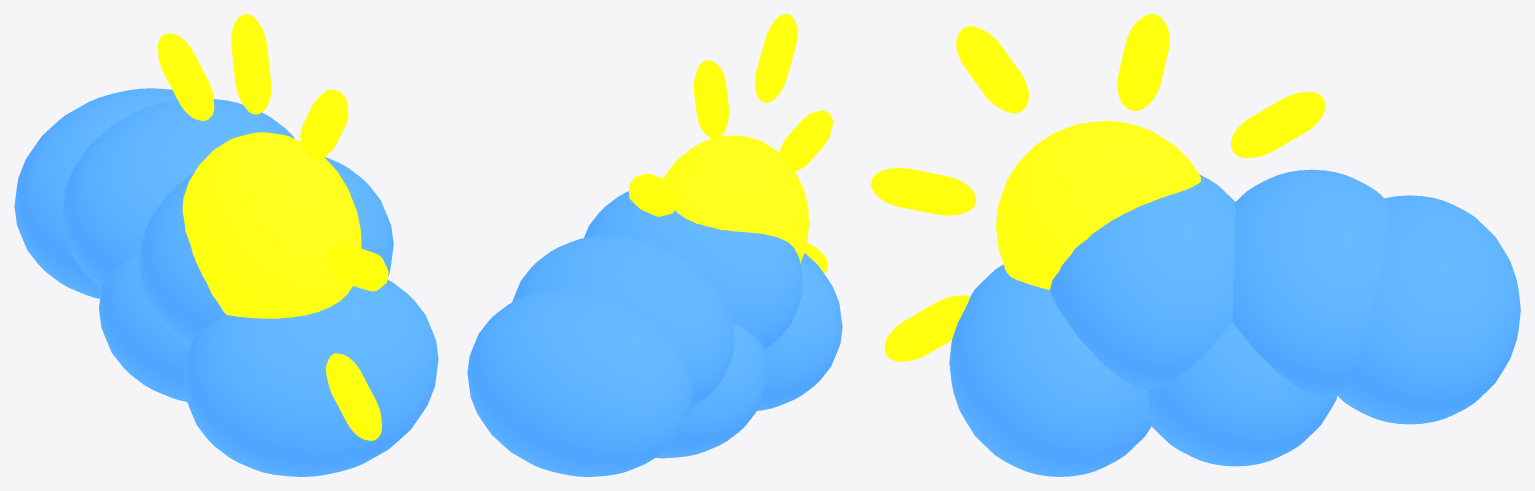
Rendered from clouds.glb.
3 views of the same model, side by side, from view 1: azimuth 30°, elevation 25°; view 2: azimuth 150°, elevation 25°; view 3: azimuth 270°, elevation 25° (orthographic). The views are drawn at different scales.
Visible parts, largest first — view 1: Sphere (×6), Capsule_7, Capsule_3, Capsule_2, Capsule_5, Capsule; view 2: Sphere (×6), Capsule_5, Capsule_7, Capsule, Capsule_3; view 3: Sphere (×6), Capsule_7, Capsule_5, Capsule_3, Capsule, Capsule_2.
Boxes of the visible parts, x1=… form: Sphere (×6): x1=14, y1=88, x2=438, y2=476; Capsule_7: x1=231, y1=14, x2=271, y2=114; Capsule_3: x1=158, y1=33, x2=214, y2=120; Capsule_2: x1=325, y1=353, x2=381, y2=440; Capsule_5: x1=300, y1=89, x2=348, y2=160; Capsule: x1=326, y1=243, x2=388, y2=291; Sphere (×6): x1=467, y1=135, x2=842, y2=476; Capsule_5: x1=755, y1=14, x2=797, y2=102; Capsule_7: x1=693, y1=60, x2=729, y2=138; Capsule: x1=780, y1=110, x2=832, y2=170; Capsule_3: x1=629, y1=173, x2=678, y2=216; Sphere (×6): x1=949, y1=121, x2=1520, y2=476; Capsule_7: x1=1117, y1=14, x2=1169, y2=110; Capsule_5: x1=956, y1=26, x2=1028, y2=113; Capsule_3: x1=1231, y1=91, x2=1325, y2=157; Capsule: x1=871, y1=168, x2=976, y2=215; Capsule_2: x1=884, y1=295, x2=970, y2=361.
Bounding box in the file's own units: 2.53 × 4.42 × 5.96.
